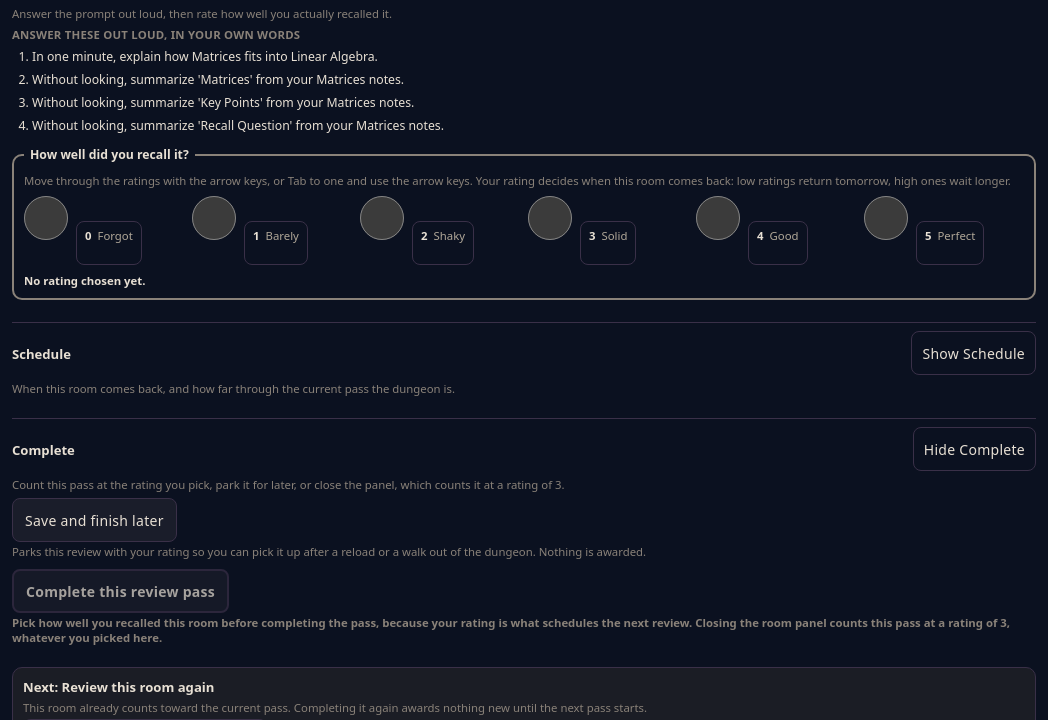
Scenario: the progress bar carries correct ARIA values on a partially cleared dungeon › reports the all-rooms denominator, which is what the HUD card has always reported
This screenshot has width=1048, height=720.
(page scrolled)
What coordinates should you click on to do the following:
click the button "Show Schedule"
I would click on:
 (974, 353)
Its box is x1=912 y1=331 x2=1036 y2=375.
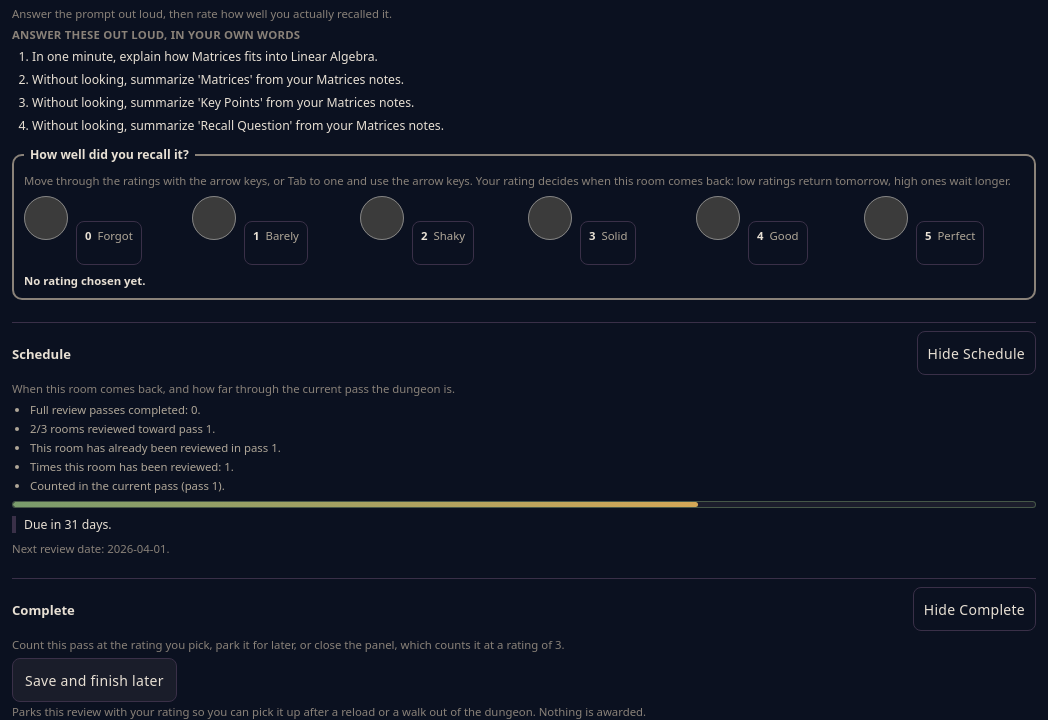
Expected: the list item "Full review passes completed: 0." is shown, x1=30 y1=402 x2=200 y2=417
Expected: the list item "2/3 rooms reviewed toward pass 1." is shown, x1=30 y1=421 x2=215 y2=436
